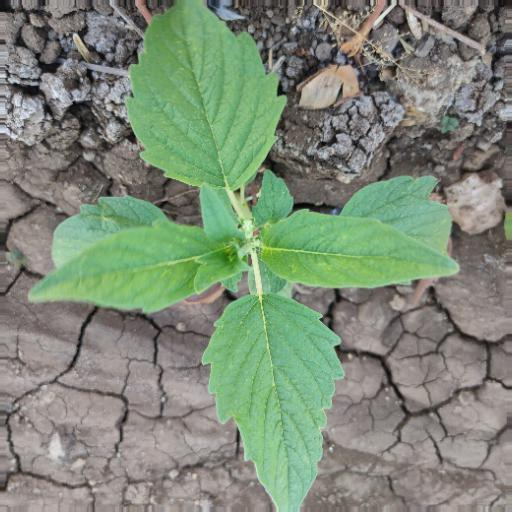crop: (27, 3, 469, 512)
